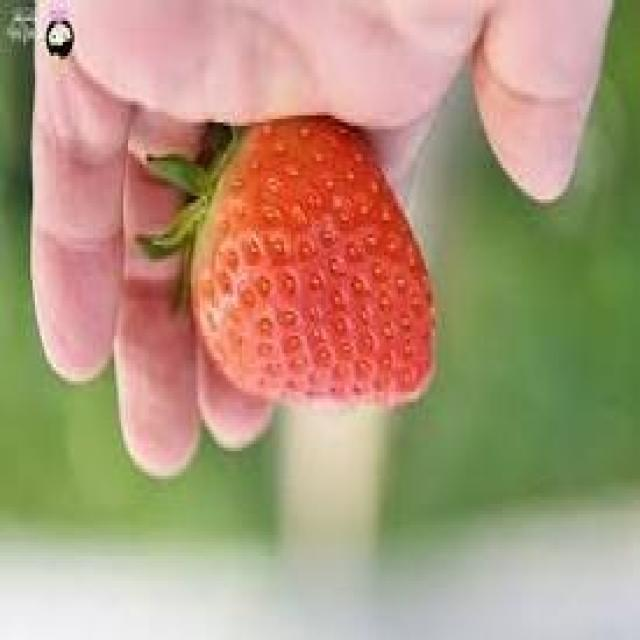mature: (190, 112, 436, 415)
